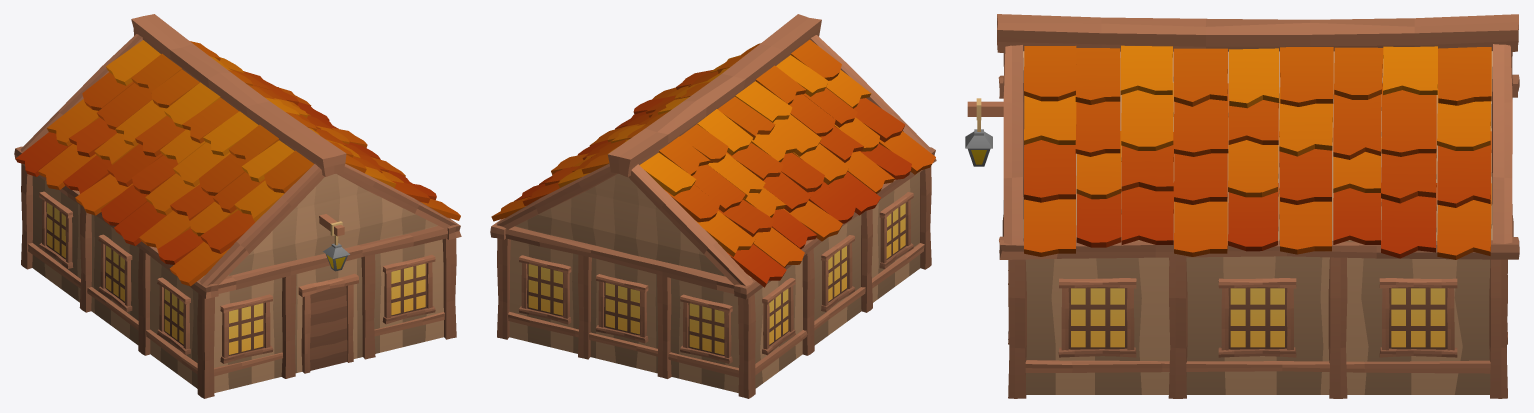
Rendered from pirate-house-3.glb.
3 views of the same model, side by side, from view 1: azimuth 30°, elevation 25°; view 2: azimuth 150°, elevation 25°; view 3: azimuth 270°, elevation 25° (orthographic). The views are drawn at different scales.
Parts seen in each view (by area): view 1: pirate house 3; view 2: pirate house 3; view 3: pirate house 3.
Part boxes in pixels (<box>): pirate house 3: <box>14,14,461,398</box>; pirate house 3: <box>490,14,936,398</box>; pirate house 3: <box>965,14,1519,398</box>.
Size of the model in its own units: 7.21 by 5.26 by 9.03.
Materials: 1 (1 with a texture image).
